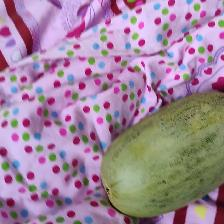gua: (110, 95, 218, 209)
